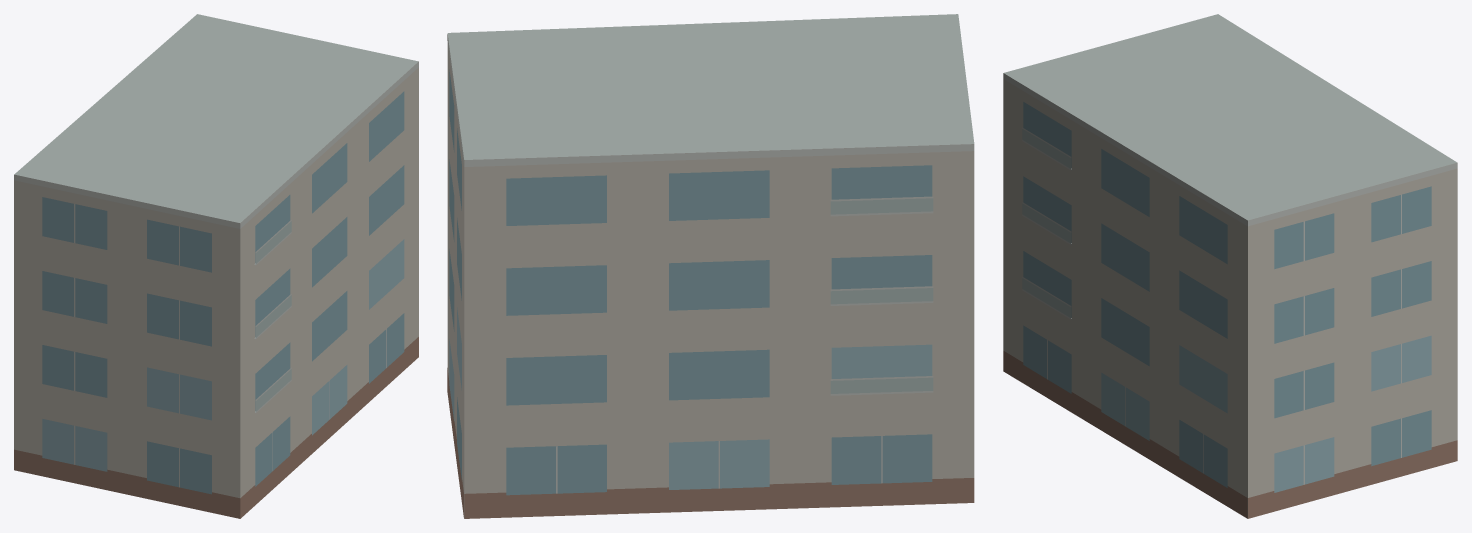
File: survey-upis-32888471.glb
3 views of the same model, side by side, from view 1: azimuth 30°, elevation 25°; view 2: azimuth 150°, elevation 25°; view 3: azimuth 270°, elevation 25° (orthographic). The views are drawn at different scales.
Visible parts, largest first — view 1: survey-upis-32888471.tmp; view 2: survey-upis-32888471.tmp; view 3: survey-upis-32888471.tmp.
Boxes of the visible parts, box(x1,y1,x2,y2) form: survey-upis-32888471.tmp: box(14, 14, 418, 518); survey-upis-32888471.tmp: box(447, 14, 974, 518); survey-upis-32888471.tmp: box(1003, 14, 1457, 518).
Bounding box in the file's own units: 18.42 × 12.4 × 17.12.
